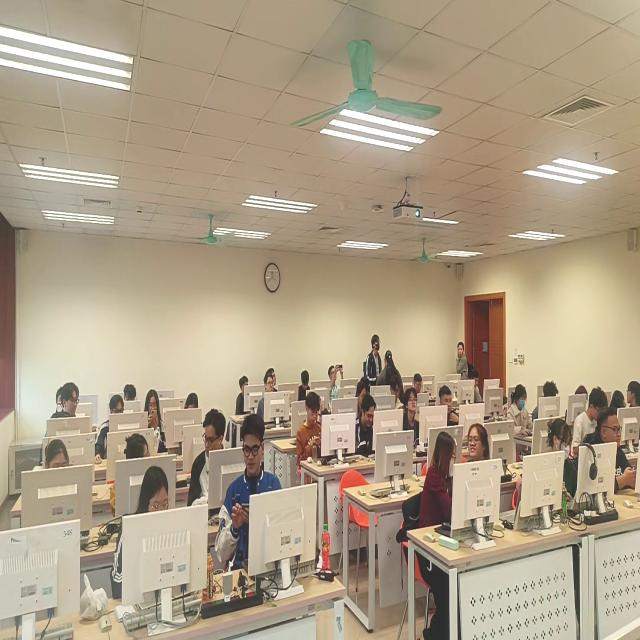raise_head: (399, 386, 427, 445), (253, 377, 283, 420), (455, 340, 472, 401)
stand: (382, 356, 402, 413), (367, 333, 383, 398)
using_computer: (112, 469, 182, 610), (590, 410, 640, 504), (542, 419, 582, 522), (37, 441, 83, 512), (99, 393, 132, 466), (505, 382, 540, 441), (351, 400, 383, 463), (436, 387, 468, 439), (177, 391, 204, 434), (539, 375, 564, 420), (234, 377, 260, 419), (578, 386, 606, 423), (469, 372, 493, 409), (610, 387, 629, 433), (568, 380, 588, 420), (296, 370, 315, 407), (412, 376, 434, 405), (124, 383, 143, 416), (389, 377, 404, 409)
using_phone: (221, 423, 281, 573), (298, 392, 335, 481), (141, 390, 170, 448), (329, 361, 350, 403)
